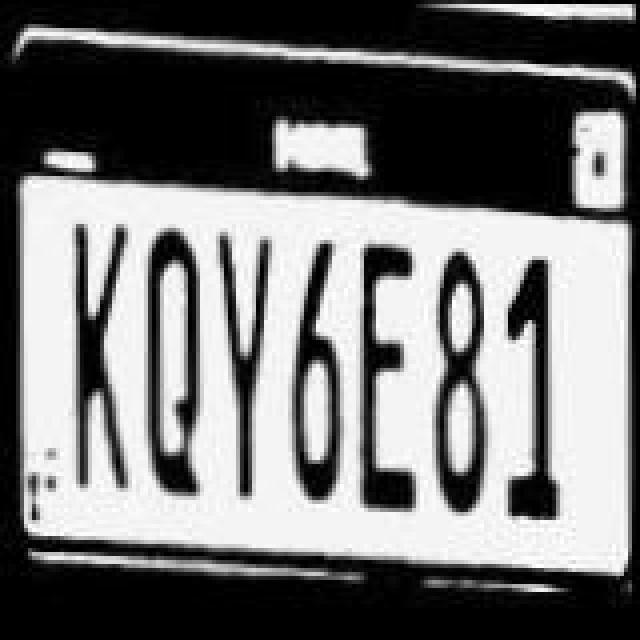1: (500, 252, 568, 524)
6: (282, 236, 350, 512)
8: (430, 248, 494, 520)
E: (352, 238, 424, 514)
K: (58, 216, 134, 504)
Q: (134, 220, 210, 508)
Y: (210, 228, 278, 516)
